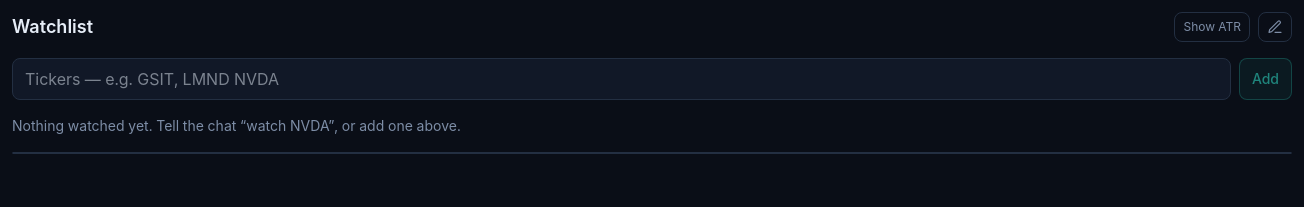
Test: adds several symbols and summarises the result
In the field with placeholder "Tickers — e.g. GSIT, LMND NVDA": (621, 79) top-left (12, 58), bottom-right (1231, 100), type "nvda, amd xyz"
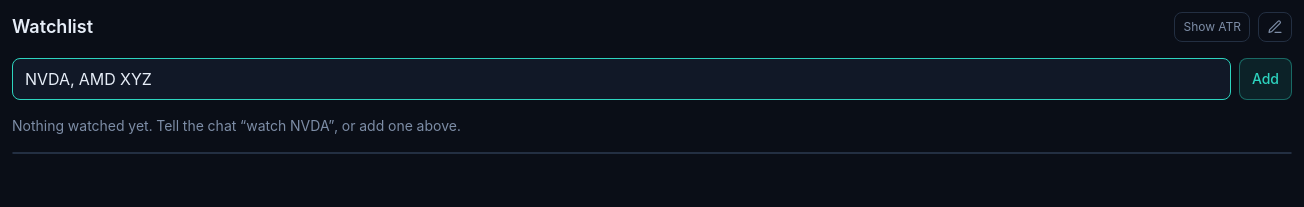
Click the button "Add": (1265, 79) top-left (1239, 58), bottom-right (1292, 100)
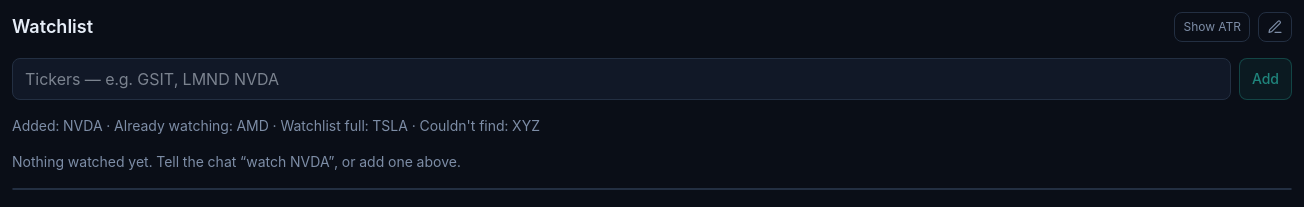
Expected: the text "Added: NVDA · Already watching: AMD · Watchlist full: TSLA · Couldn't find: XYZ" is shown, top-left (12, 117), bottom-right (540, 134)
Expected: the field with placeholder "Tickers — e.g. GSIT, LMND NVDA" is empty, top-left (12, 58), bottom-right (1231, 100)
